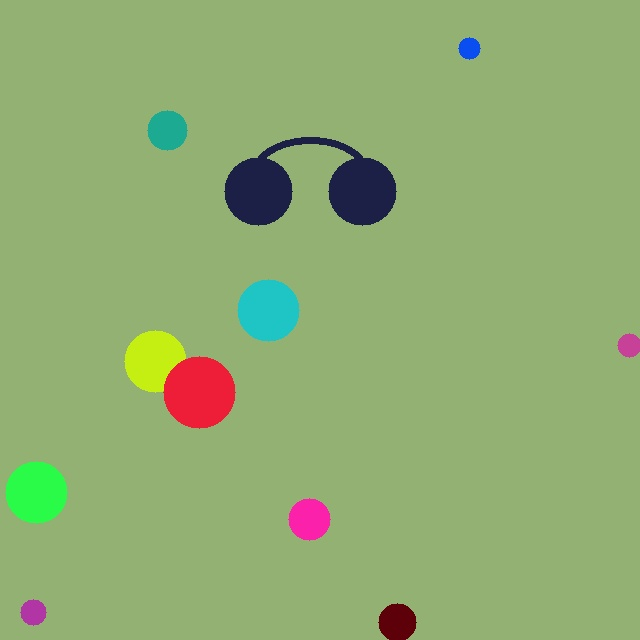over_ear: (220, 123, 400, 229)
